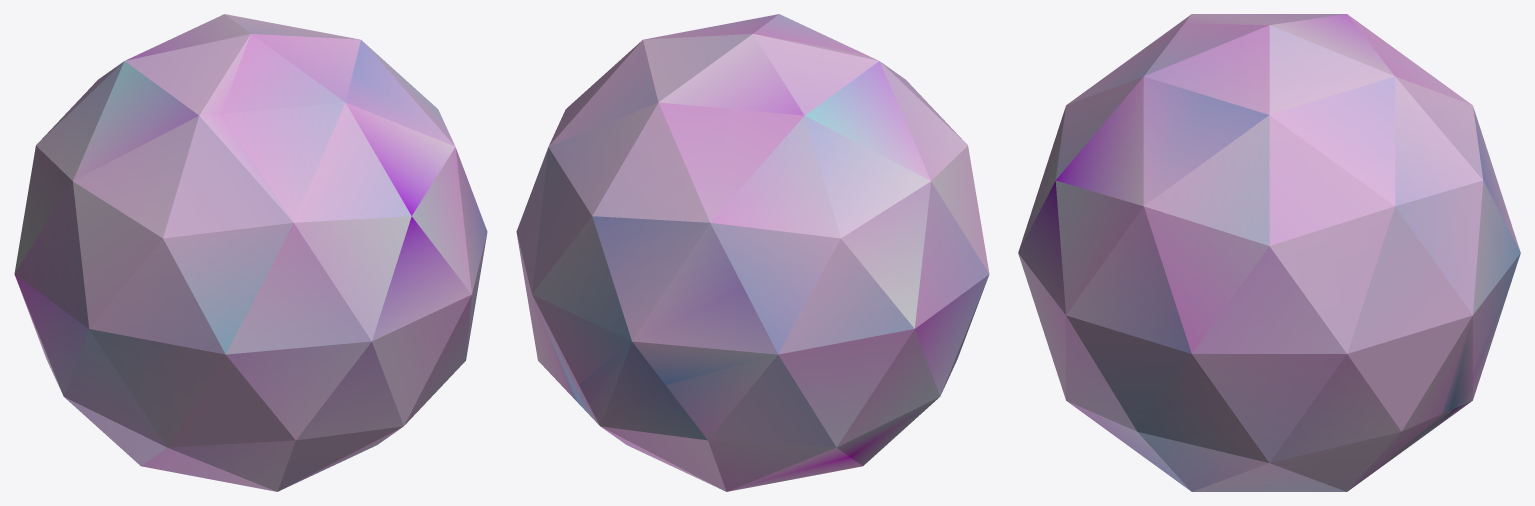
3 renders of one model, left to right at view 1: azimuth 30°, elevation 25°; view 2: azimuth 150°, elevation 25°; view 3: azimuth 270°, elevation 25°, orthographic. The views are drawn at different scales.
Parts seen in each view (by area): view 1: faceted_body; view 2: faceted_body; view 3: faceted_body.
Boxes of the visible parts, bbox=[...] form: faceted_body: bbox=[14, 14, 487, 491]; faceted_body: bbox=[516, 14, 989, 491]; faceted_body: bbox=[1018, 14, 1520, 491].
Bounding box in the file's own units: 0.4755 × 0.5 × 0.5.
